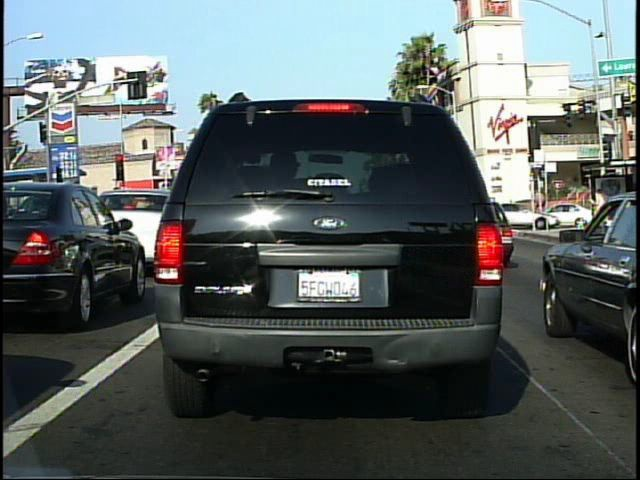person: (591, 184, 612, 246), (507, 198, 520, 224)
